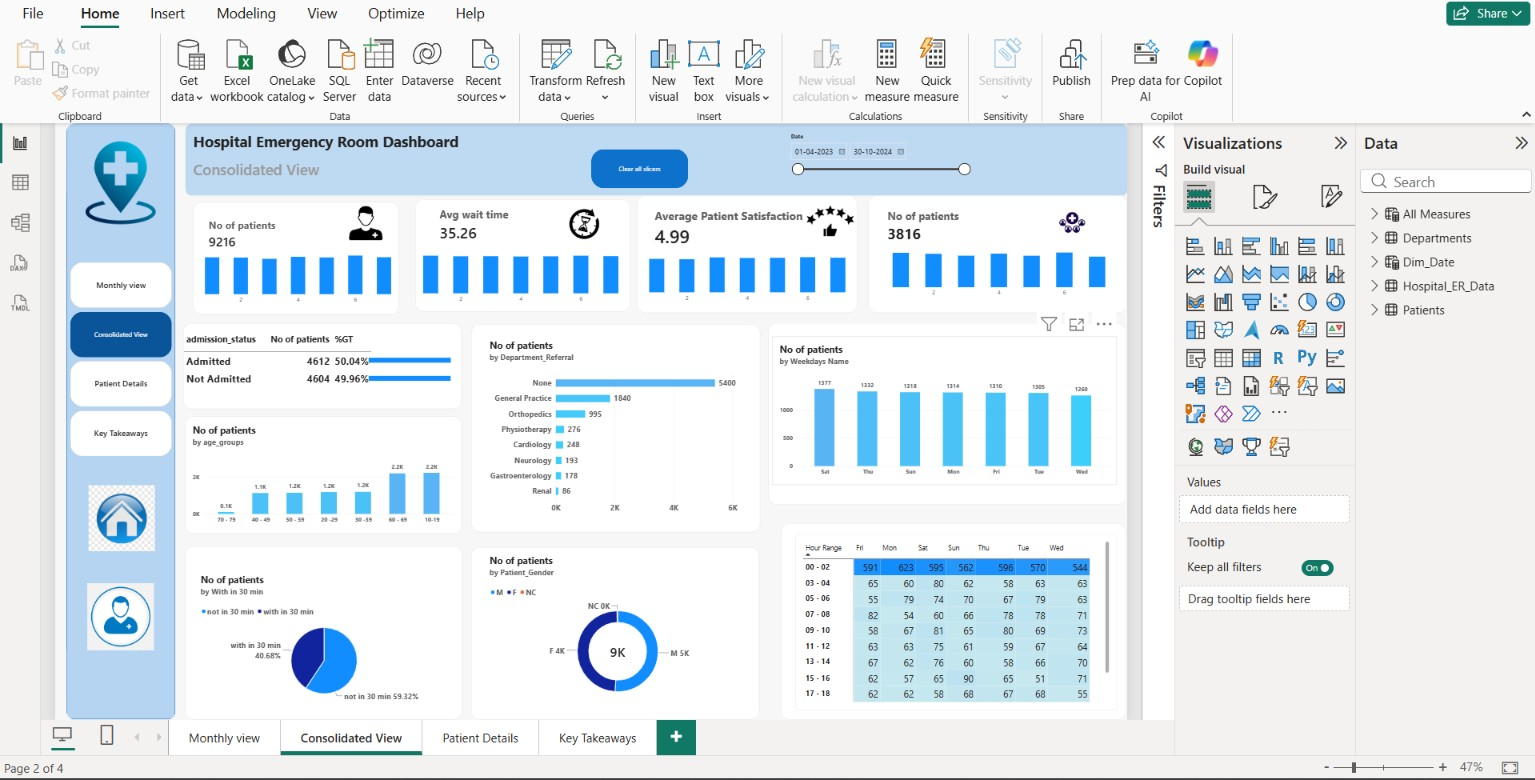

The page's visual inventory and layout, read from the dashboard file:
{"tool":"powerbi","page":{"name":"Consolidated View","canvas":[2300,1280],"ordinal":1},"visuals":[{"type":"shape","box":[278.6,907.6,594.2,372.2],"z":0},{"type":"shape","box":[278.8,0,2022.5,156.6],"z":1000},{"type":"shape","box":[23.9,0,235,1279.7],"z":2000},{"type":"textbox","box":[295.6,17.1,625.4,122.1],"z":3000},{"type":"shape","box":[296,169.8,441.8,241.6],"z":4000},{"type":"cardVisual","fields":{"Data":["Hospital_ER_Data.No of patients"]},"box":[313.1,145.8,263.5,184.2],"z":5000},{"type":"columnChart","fields":{"Category":["Dim_Date.Week  Day No"],"Y":["Hospital_ER_Data.No of patients"]},"box":[296,252.5,449.8,154.2],"z":6000},{"type":"shape","box":[772.6,163.2,461.8,241.7],"z":8000},{"type":"cardVisual","fields":{"Data":["Hospital_ER_Data.Avg wait time"]},"box":[809.6,126.2,263.5,184.2],"z":9000},{"type":"columnChart","fields":{"Category":["Dim_Date.Week  Day No"],"Y":["Hospital_ER_Data.Avg wait time"]},"box":[763.9,250.3,470.1,154.5],"z":10000},{"type":"shape","box":[1249.2,154.5,472.3,252.5],"z":11000},{"type":"shape","box":[1743.3,154.5,555,252.5],"z":12000},{"type":"cardVisual","fields":{"Data":["Hospital_ER_Data.Average Patient Satisfaction"]},"box":[1268.8,163.2,351.3,126.4],"z":13000},{"type":"cardVisual","fields":{"Data":["Hospital_ER_Data.No of patients"]},"box":[1769.4,128.4,263.5,184.2],"z":14000},{"type":"columnChart","fields":{"Category":["Dim_Date.Week  Day No"],"Y":["Hospital_ER_Data.Average Patient Satisfaction"]},"box":[1249.2,250.3,472.3,152.3],"z":15000},{"type":"columnChart","fields":{"Category":["Dim_Date.Week  Day No"],"Y":["Hospital_ER_Data.No of patients"]},"box":[1769.4,250.3,509.3,141.5],"z":16000},{"type":"shape","box":[274.2,428.4,597.6,184.2],"z":17000},{"type":"tableEx","fields":{"Values":["Hospital_ER_Data.admission_status","Hospital_ER_Data.No of patients","Divide(Hospital_ER_Data.No of patients, ScopedEval(Hospital_ER_Data.No of patients, []))"]},"box":[259,431.6,457.5,159.7],"z":18000},{"type":"barChart","fields":{"Category":["Hospital_ER_Data.admission_status"],"Y":["Hospital_ER_Data.No of patients"]},"box":[655.9,461.8,261.1,129.5],"z":19000},{"type":"shape","box":[278.5,627.6,593.3,252.7],"z":20000},{"type":"columnChart","fields":{"Category":["Patients.age_groups"],"Y":["Hospital_ER_Data.No of patients"]},"box":[278.5,629.7,593.3,248.5],"z":21000},{"type":"shape","box":[892.3,430.9,620.3,446.2],"z":22000},{"type":"pieChart","fields":{"Category":["Hospital_ER_Data.With in 30 min"],"Y":["Hospital_ER_Data.No of patients"]},"box":[296,951.1,561.5,309],"z":23000},{"type":"barChart","fields":{"Category":["Departments.Department_Referral"],"Y":["Hospital_ER_Data.No of patients"]},"box":[916.3,448.3,570.2,409.2],"z":24000},{"type":"shape","box":[892.3,909.7,618.1,370],"z":25000},{"type":"donutChart","fields":{"Category":["Patients.Patient_Gender"],"Y":["Hospital_ER_Data.No of patients"]},"box":[916.3,909.7,581.1,350.4],"z":26000},{"type":"shape","box":[1530,428.7,768.3,389.6],"z":27000},{"type":"columnChart","fields":{"Category":["Dim_Date.Weekdays Name"],"Y":["Hospital_ER_Data.No of patients"]},"box":[1537.8,456.8,740,319.6],"z":28000},{"type":"shape","box":[1557.1,857.9,740,422.2],"z":29000},{"type":"pivotTable","fields":{"Columns":["Dim_Date.Weekdays Name"],"Rows":["Hospital_ER_Data.Hour Range"],"Values":["Hospital_ER_Data.No of patients"]},"box":[1587.1,881.5,690.6,377.5],"z":30000},{"type":"slicer","fields":{"Values":["Dim_Date.Date"]},"box":[1570,19.3,396.8,115.8],"z":31000},{"type":"pageNavigator","box":[32.2,298.1,218.8,418.2],"z":31003},{"type":"image","box":[40.8,38.6,199.5,178],"z":31004},{"type":"image","box":[64.3,776.4,156.6,141.6],"z":31005},{"type":"image","box":[40.8,986.6,199.5,143.7],"z":31007},{"type":"actionButton","box":[1149.6,55.8,208,83.6],"z":31008},{"type":"image","box":[594.1,178,143.7,72.9],"z":31009},{"type":"image","box":[1059.5,171.6,150.1,87.9],"z":31010},{"type":"image","box":[1587.1,165.1,150.1,87.9],"z":31011},{"type":"image","box":[2099.7,167.3,163,87.9],"z":31012}]}

Visuals, with their boxes on the page's 2300x1280 design canvas (x1, y1, x2, y2). These are canvas units, not pixel positions in the 1535x780 screenshot, which may show the page scaled, cropped or inside an application window:
shape: 279/908/873/1280
shape: 279/0/2301/157
shape: 24/0/259/1280
textbox: 296/17/921/139
shape: 296/170/738/411
cardVisual - Hospital_ER_Data.No of patients: 313/146/577/330
columnChart - Dim_Date.Week  Day No x Hospital_ER_Data.No of patients: 296/252/746/407
shape: 773/163/1234/405
cardVisual - Hospital_ER_Data.Avg wait time: 810/126/1073/310
columnChart - Dim_Date.Week  Day No x Hospital_ER_Data.Avg wait time: 764/250/1234/405
shape: 1249/154/1722/407
shape: 1743/154/2298/407
cardVisual - Hospital_ER_Data.Average Patient Satisfaction: 1269/163/1620/290
cardVisual - Hospital_ER_Data.No of patients: 1769/128/2033/313
columnChart - Dim_Date.Week  Day No x Hospital_ER_Data.Average Patient Satisfaction: 1249/250/1722/403
columnChart - Dim_Date.Week  Day No x Hospital_ER_Data.No of patients: 1769/250/2279/392
shape: 274/428/872/613
tableEx - Hospital_ER_Data.admission_status x Hospital_ER_Data.No of patients: 259/432/716/591
barChart - Hospital_ER_Data.admission_status x Hospital_ER_Data.No of patients: 656/462/917/591
shape: 278/628/872/880
columnChart - Patients.age_groups x Hospital_ER_Data.No of patients: 278/630/872/878
shape: 892/431/1513/877
pieChart - Hospital_ER_Data.With in 30 min x Hospital_ER_Data.No of patients: 296/951/858/1260
barChart - Departments.Department_Referral x Hospital_ER_Data.No of patients: 916/448/1486/858
shape: 892/910/1510/1280
donutChart - Patients.Patient_Gender x Hospital_ER_Data.No of patients: 916/910/1497/1260
shape: 1530/429/2298/818
columnChart - Dim_Date.Weekdays Name x Hospital_ER_Data.No of patients: 1538/457/2278/776
shape: 1557/858/2297/1280
pivotTable - Dim_Date.Weekdays Name x Hospital_ER_Data.Hour Range: 1587/882/2278/1259
slicer - Dim_Date.Date: 1570/19/1967/135
pageNavigator: 32/298/251/716
image: 41/39/240/217
image: 64/776/221/918
image: 41/987/240/1130
actionButton: 1150/56/1358/139
image: 594/178/738/251
image: 1060/172/1210/260
image: 1587/165/1737/253
image: 2100/167/2263/255
